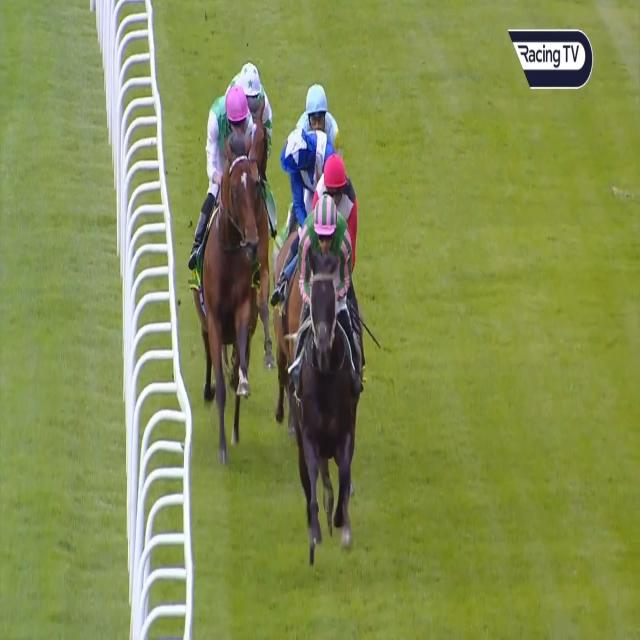horses-racing: (285, 200, 370, 542), (194, 83, 262, 439), (262, 116, 338, 190), (231, 50, 271, 160), (311, 158, 359, 226), (296, 82, 348, 139)
